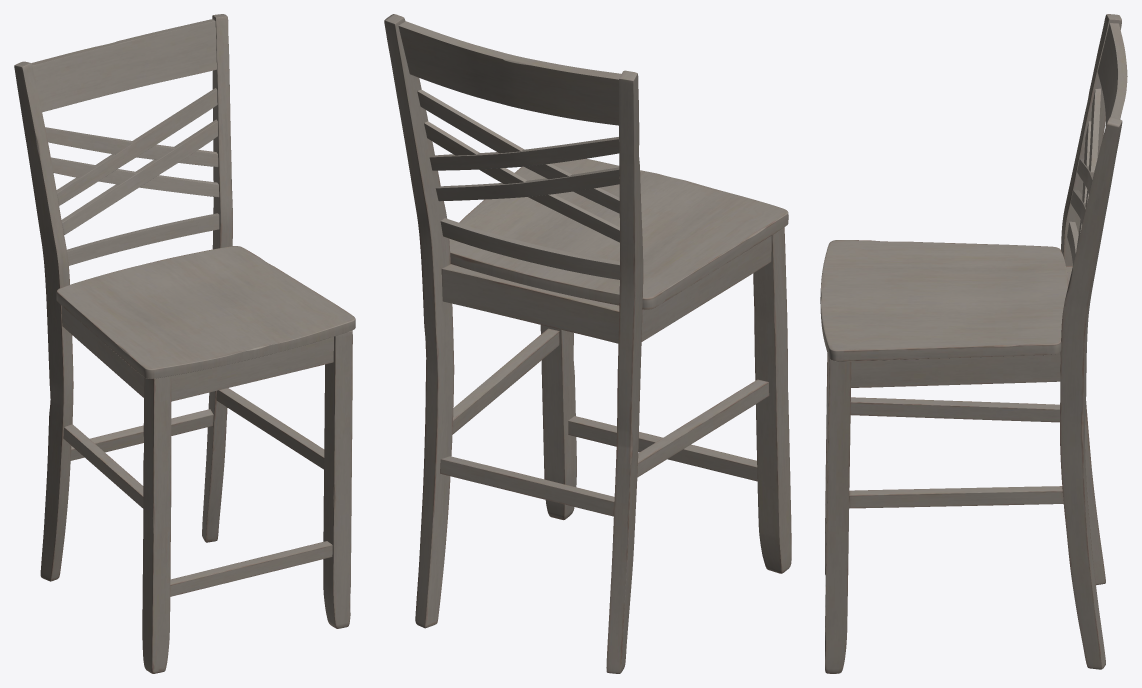
File: stool_B07DBDWX9T.glb
3 renders of one model, left to right at view 1: azimuth 30°, elevation 25°; view 2: azimuth 150°, elevation 25°; view 3: azimuth 270°, elevation 25°, orthographic. The views are drawn at different scales.
Parts seen in each view (by area): view 1: RootNode; view 2: RootNode; view 3: RootNode.
Part boxes in pixels (x1,y1,x2,y2): RootNode: [14, 14, 355, 673]; RootNode: [384, 14, 791, 673]; RootNode: [820, 14, 1127, 673].
Size of the model in its own units: 0.4618 by 1.08 by 0.5389.
1 material, 1 textured.
